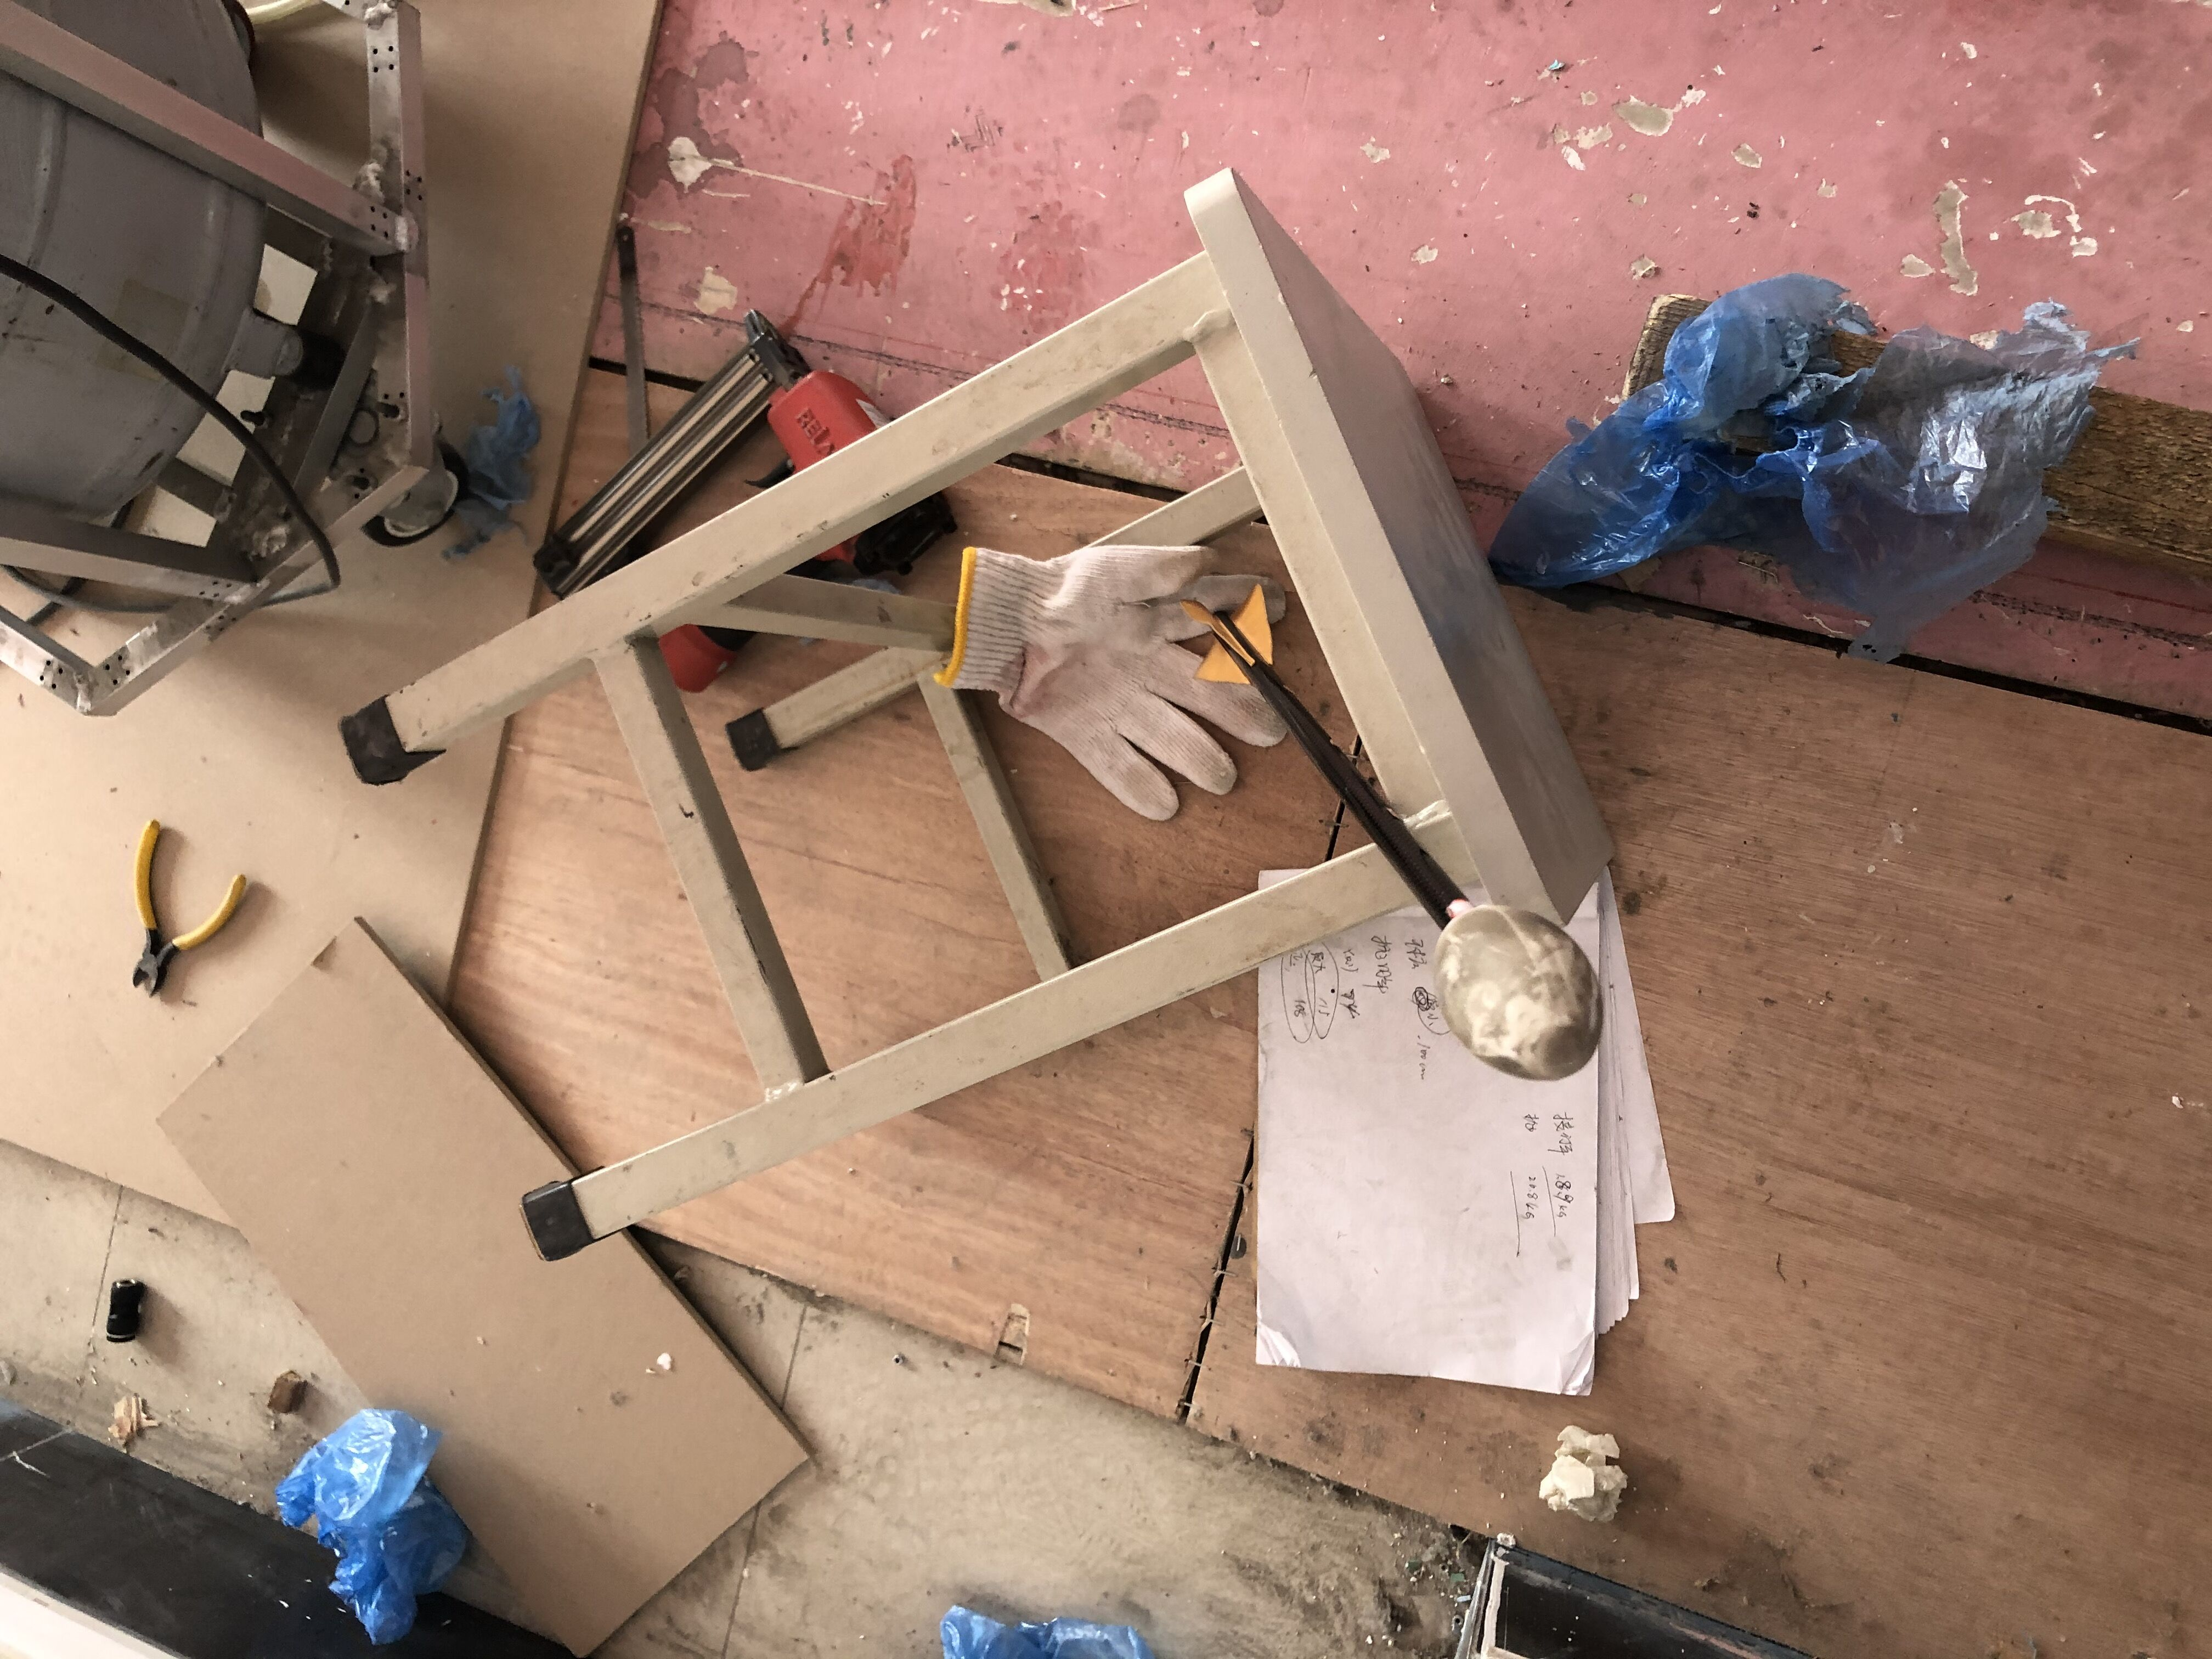arrow: (1183, 586, 1604, 1079)
arrowFront: (1432, 903, 1599, 1080)
